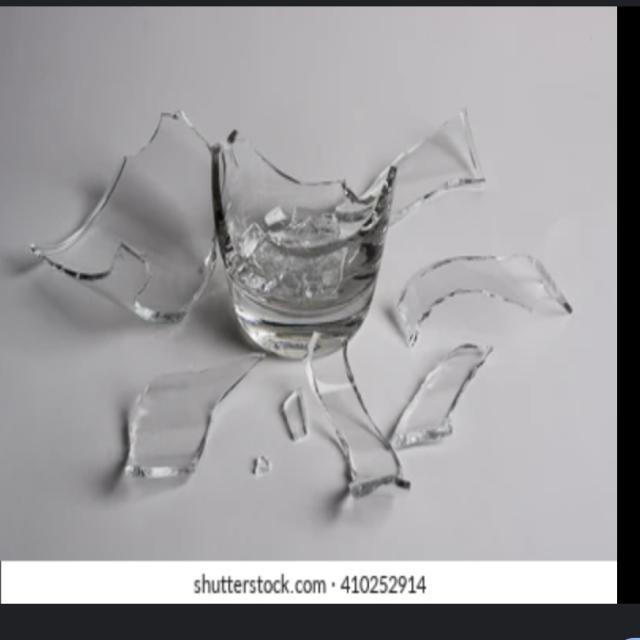PecahanKaca: (28, 104, 572, 504), (392, 250, 573, 346)
